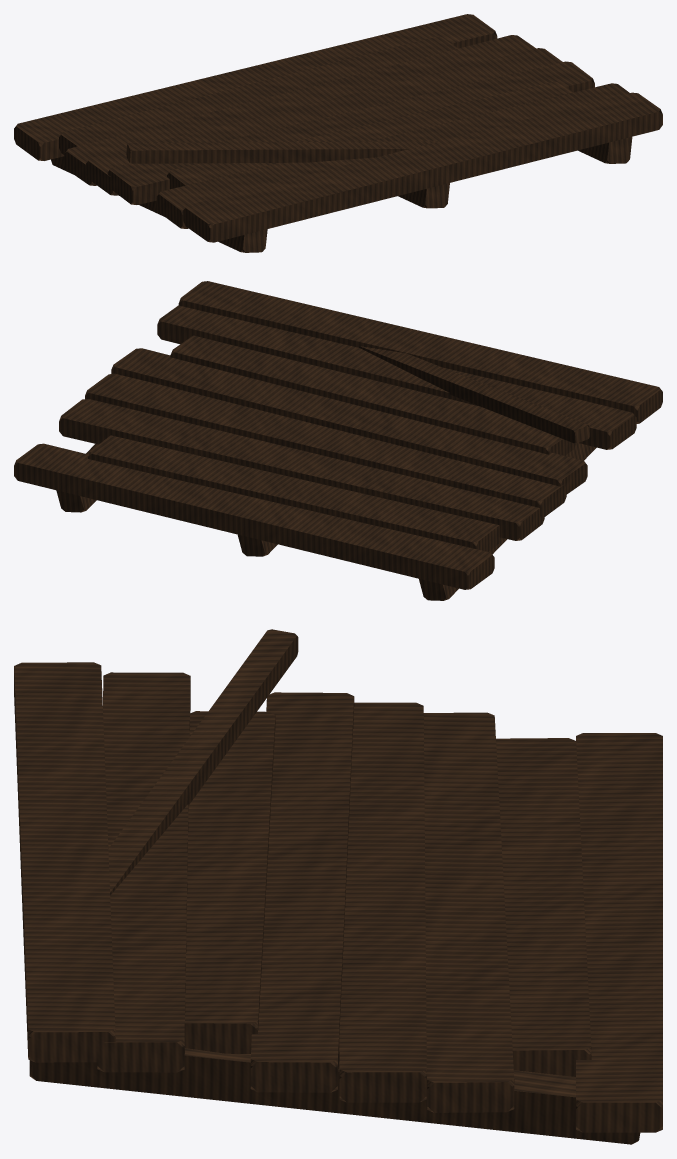
Rendered from cataclysm_rootvault_roof-lod2.gltf.
3 renders of one model, top to bottom at view 1: azimuth 30°, elevation 25°; view 2: azimuth 150°, elevation 25°; view 3: azimuth 270°, elevation 25°, orthographic. The views are drawn at different scales.
Parts seen in each view (by area): view 1: cataclysm_rootvault_roof LOD2 cataclysm_rootvault_roof; view 2: cataclysm_rootvault_roof LOD2 cataclysm_rootvault_roof; view 3: cataclysm_rootvault_roof LOD2 cataclysm_rootvault_roof.
Boxes of the visible parts, box(x1,y1,x2,y2) form: cataclysm_rootvault_roof LOD2 cataclysm_rootvault_roof: box(14, 14, 662, 252); cataclysm_rootvault_roof LOD2 cataclysm_rootvault_roof: box(14, 281, 662, 600); cataclysm_rootvault_roof LOD2 cataclysm_rootvault_roof: box(14, 629, 662, 1144).
Size of the model in its own units: 2.78 by 0.6172 by 2.05.
1 material, 1 textured.
